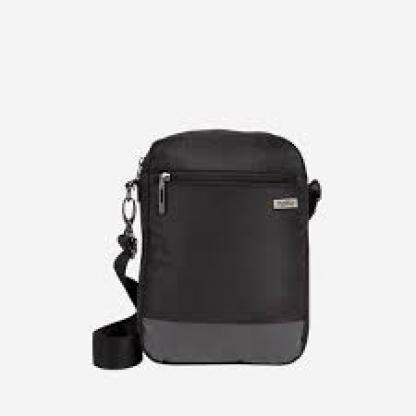morral: (80, 109, 346, 381)
